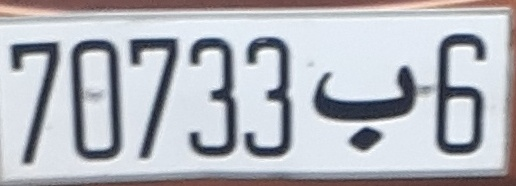0: (68, 36, 124, 164)
3: (240, 35, 295, 160), (186, 35, 237, 157)
6: (434, 29, 489, 155)
7: (127, 35, 183, 161), (7, 37, 61, 166)
b: (310, 61, 419, 158)
